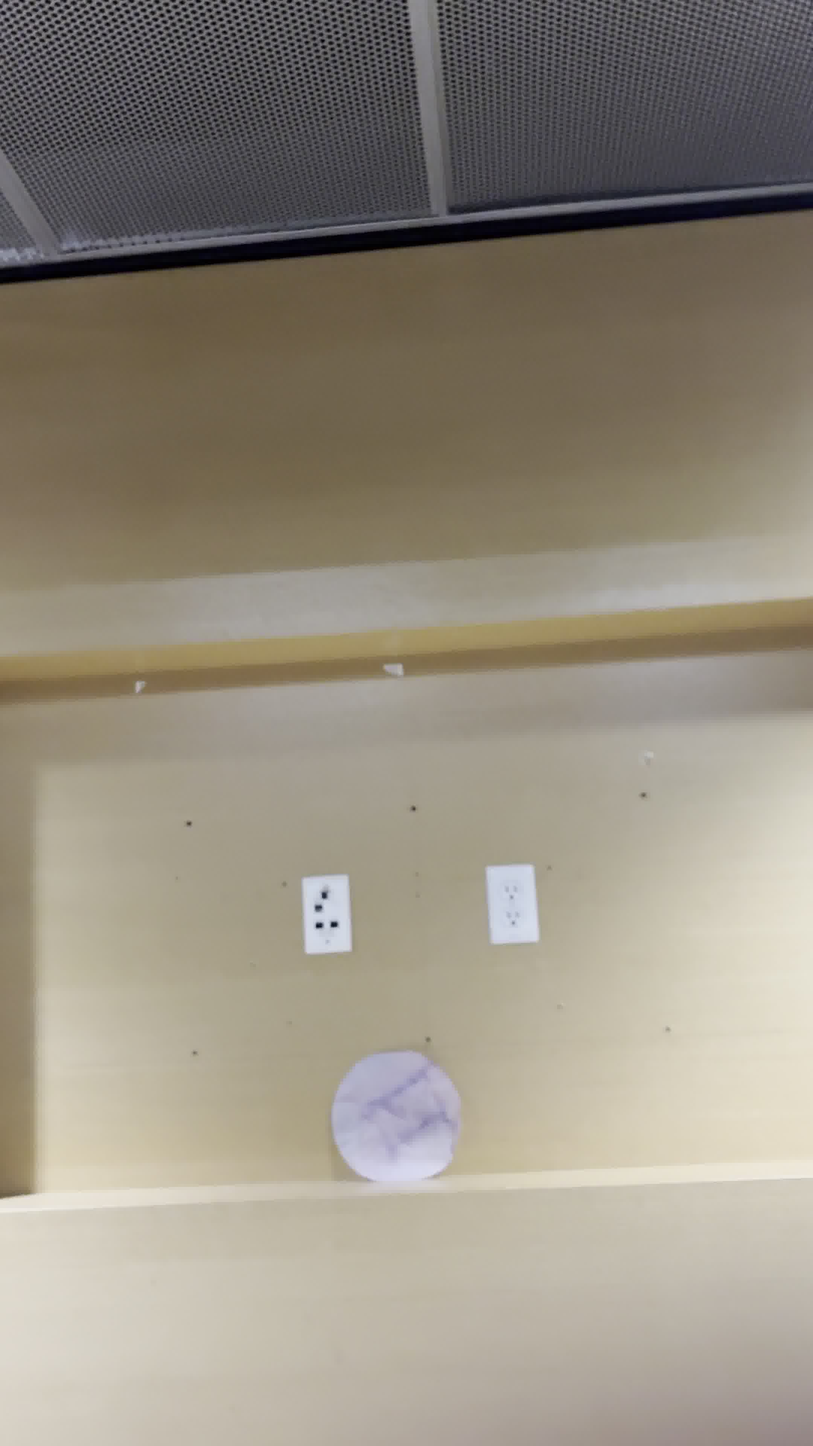Target: (326, 1047, 456, 1186)
